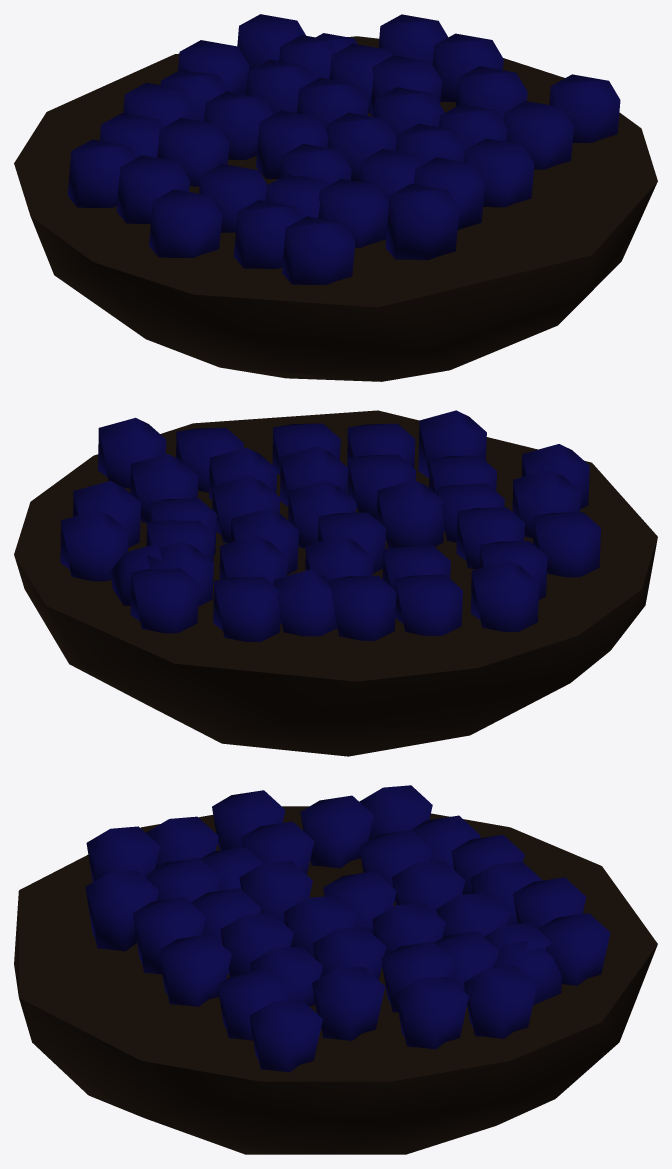
The model's file is boal of berries.fbx.
3 views of the same model, one above another, from view 1: azimuth 30°, elevation 25°; view 2: azimuth 150°, elevation 25°; view 3: azimuth 270°, elevation 25° (orthographic). The views are drawn at different scales.
Visible parts, largest first — view 1: Sphere001, Object004; view 2: Sphere001, Object004, Object; view 3: Sphere001, Object004, Object.
Boxes of the visible parts, x1,y1,x2,y2 form: Sphere001: (67, 14, 620, 284); Object004: (14, 36, 657, 381); Sphere001: (60, 410, 600, 641); Object004: (14, 410, 657, 756); Object: (111, 544, 162, 605); Sphere001: (85, 785, 610, 1072); Object004: (14, 806, 657, 1154); Object: (493, 941, 561, 1005).
Bounding box in the file's own units: 3.38 × 1.32 × 3.34.
